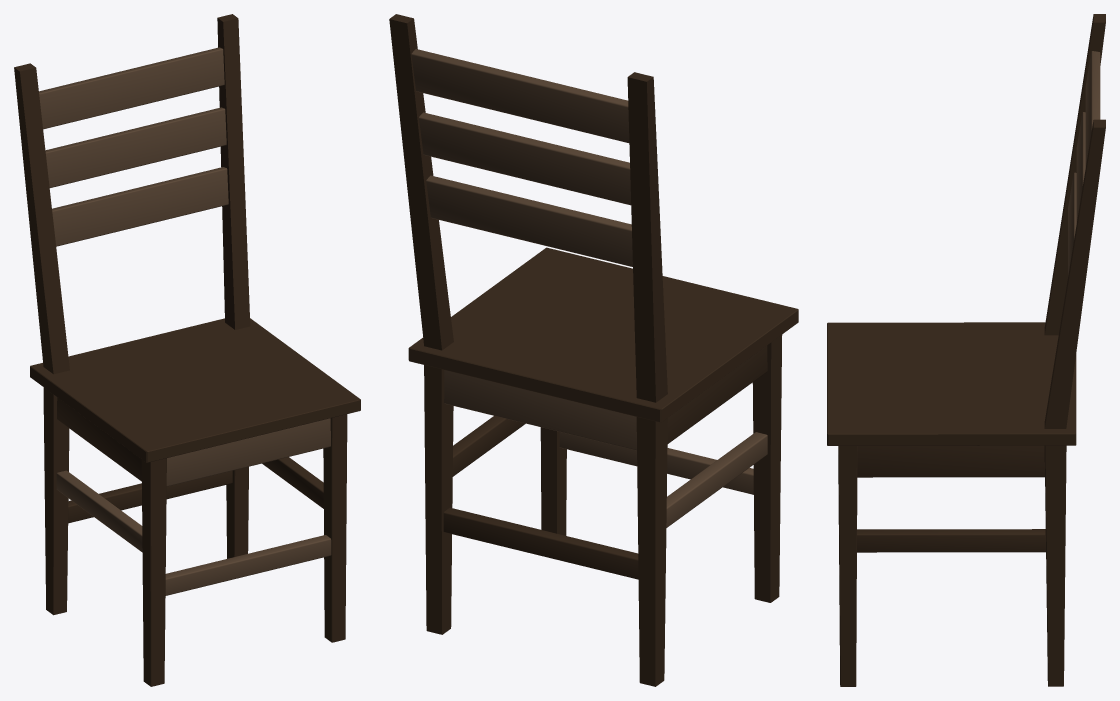
File: chair.fbx
3 views of the same model, side by side, from view 1: azimuth 30°, elevation 25°; view 2: azimuth 150°, elevation 25°; view 3: azimuth 270°, elevation 25° (orthographic). The views are drawn at different scales.
Parts seen in each view (by area): view 1: Chair, Cube_12, Cube_11, Cube_13, Cube_4, Cube_7, Cube_9, Cube_6, Cube_1, Cube_5; view 2: Chair, Cube_12, Cube_11, Cube_13, Cube_8, Cube_6, Cube_9, Cube_7, Cube_1, Cube_5; view 3: Chair, Cube_2, Cube_5, Cube_12, Cube_11, Cube_13.
Boxes of the visible parts, left/top/right/bottom form: Chair: left=14, top=14, right=360, bottom=686; Cube_12: left=39, top=47, right=224, bottom=129; Cube_11: left=45, top=107, right=226, bottom=187; Cube_13: left=52, top=167, right=228, bottom=246; Cube_4: left=166, top=418, right=330, bottom=486; Cube_7: left=165, top=535, right=331, bottom=595; Cube_9: left=56, top=470, right=142, bottom=552; Cube_6: left=68, top=470, right=232, bottom=523; Cube_1: left=57, top=397, right=141, bottom=481; Cube_5: left=262, top=457, right=323, bottom=508; Chair: left=389, top=14, right=798, bottom=686; Cube_12: left=411, top=49, right=629, bottom=142; Cube_11: left=419, top=112, right=631, bottom=205; Cube_13: left=426, top=175, right=632, bottom=266; Cube_8: left=444, top=370, right=636, bottom=450; Cube_6: left=443, top=507, right=638, bottom=579; Cube_9: left=666, top=432, right=767, bottom=527; Cube_7: left=559, top=432, right=753, bottom=494; Cube_1: left=667, top=345, right=767, bottom=443; Cube_5: left=452, top=416, right=525, bottom=476; Chair: left=827, top=14, right=1105, bottom=686; Cube_2: left=857, top=445, right=1044, bottom=477; Cube_5: left=857, top=529, right=1045, bottom=552; Cube_12: left=1085, top=51, right=1100, bottom=167; Cube_11: left=1076, top=112, right=1085, bottom=222; Cube_13: left=1068, top=172, right=1076, bottom=276.
Bounding box in the file's own units: 102 × 237 × 106.
